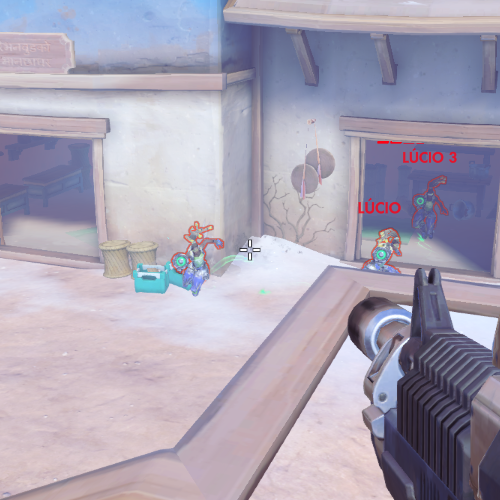hpbar: (377, 140, 425, 144)
